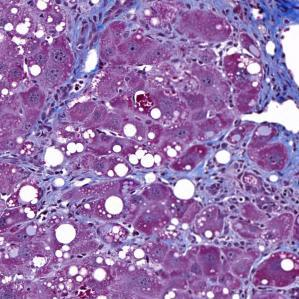fibrosis: (179, 137, 296, 214), (219, 5, 299, 98), (58, 5, 112, 100)
